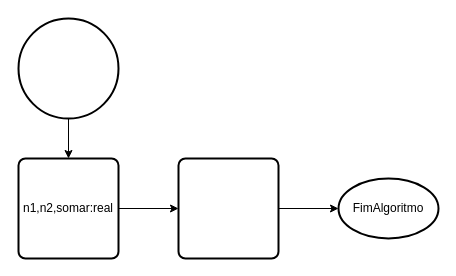
The diagram is 456 pixels wide and 276 high, and some of its shapes have lost their labels. Each missing label, with the centre of its shape:
"início" goes at [68,68].
"somar<- n1+n2" goes at [228,208].
